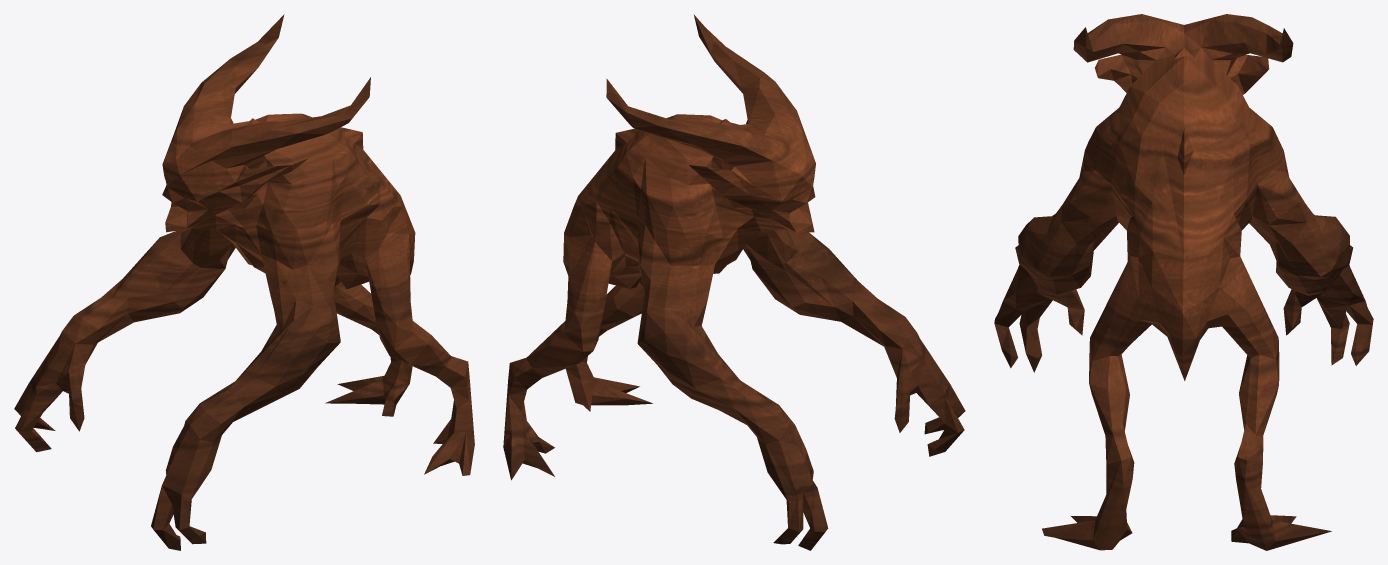
Rendered from hellhound-model.fbx.
The picture shows the model from 3 angles, left to right: view 1: azimuth 30°, elevation 25°; view 2: azimuth 150°, elevation 25°; view 3: azimuth 270°, elevation 25°; orthographic projection. The views are drawn at different scales.
Visible parts, largest first — view 1: Group47552; view 2: Group47552; view 3: Group47552.
Part boxes in pixels (x1,y1,x2,y2): Group47552: (14,14,474,550); Group47552: (503,15,965,550); Group47552: (994,14,1373,550).
Bounding box in the file's own units: 31.75 × 34.43 × 25.35.
